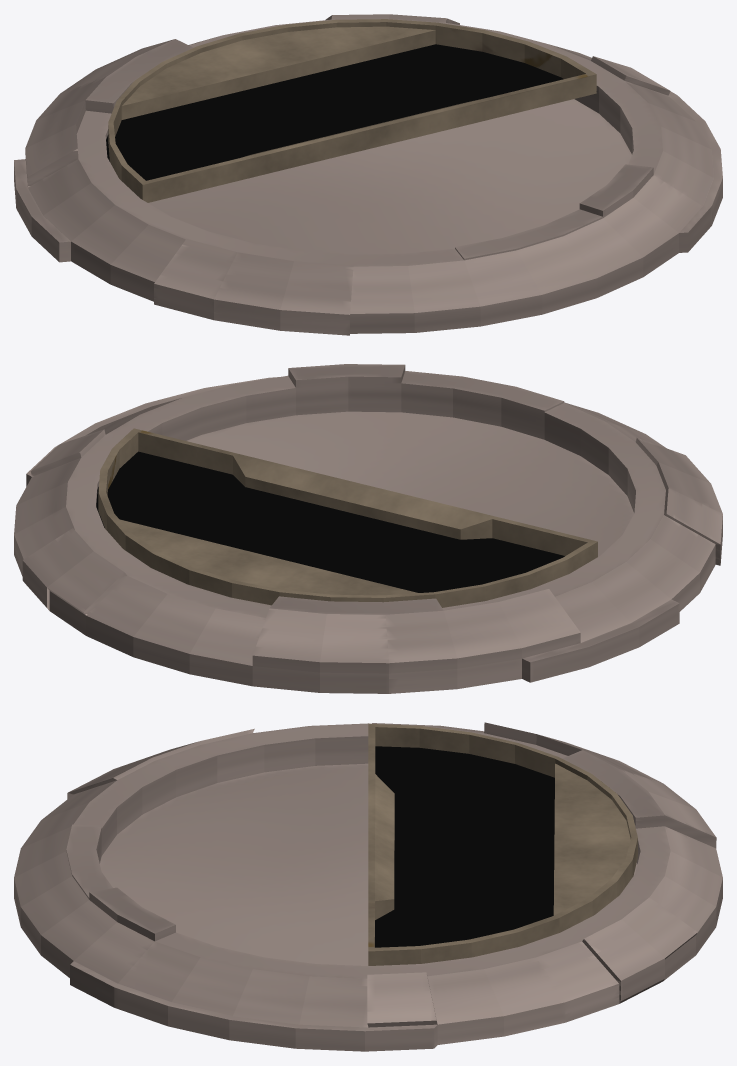
The model's file is Keypad base.glb.
3 views of the same model, one above another, from view 1: azimuth 30°, elevation 25°; view 2: azimuth 150°, elevation 25°; view 3: azimuth 270°, elevation 25° (orthographic). The views are drawn at different scales.
Parts seen in each view (by area): view 1: keypad base, Keypad screen, Plane; view 2: keypad base, Keypad screen, Plane; view 3: keypad base, Plane, Keypad screen.
Part boxes in pixels (x1,y1,x2,y2): keypad base: (14, 14, 722, 335); Keypad screen: (108, 19, 596, 202); Plane: (106, 44, 596, 180); keypad base: (14, 364, 722, 693); Keypad screen: (98, 428, 597, 607); Plane: (96, 451, 564, 592); keypad base: (14, 722, 722, 1051); Plane: (375, 746, 554, 947); Keypad screen: (368, 723, 637, 965).
Size of the model in its own units: 1.42 by 0.13 by 1.38.
Materials: 3 (2 with a texture image).
